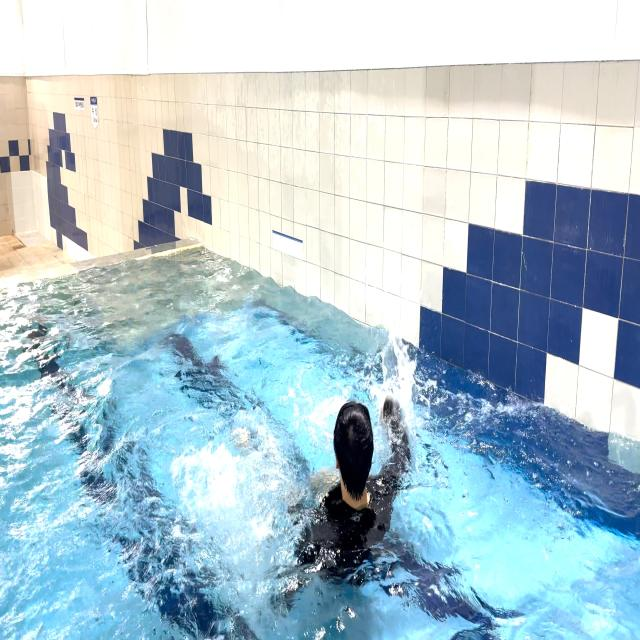Swimming: (229, 326, 432, 591)
